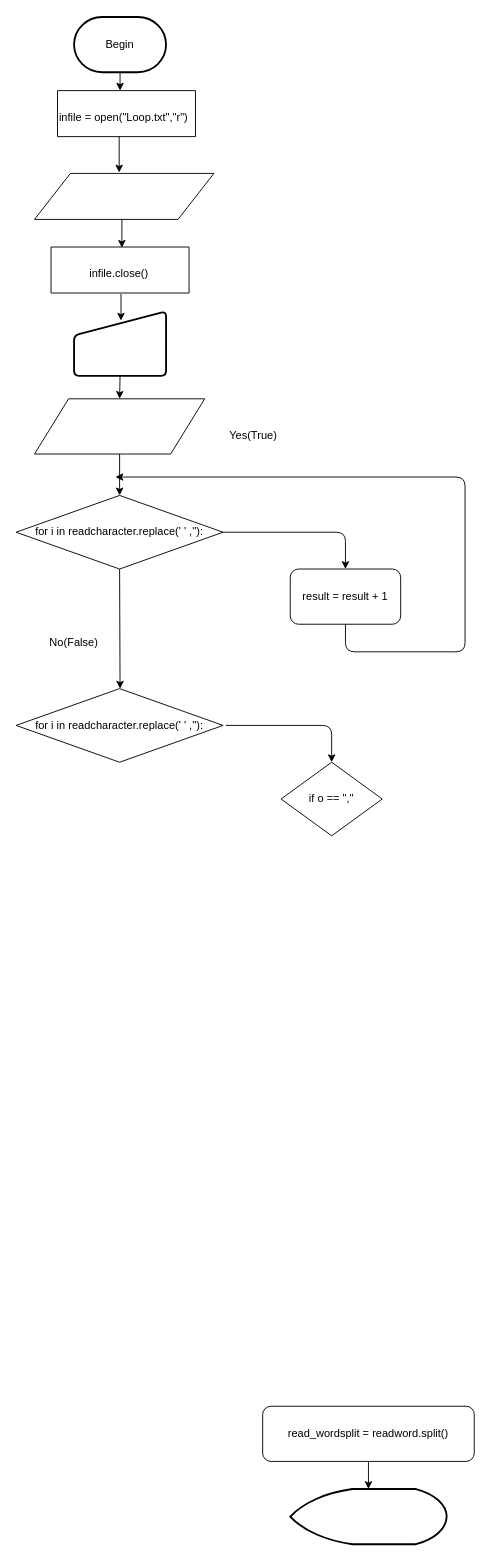
This 490x1560 diagram has some shape labels left out. The centre of each missing label's shape, as x and y in pixels:
"Display Table Headings" belongs at (x=119, y=426).
"print(len(read_wordsplit))" belongs at (x=368, y=1516).
"readcharacter = infile.read()" belongs at (x=124, y=195).
"result1 = 0 result = 0" belongs at (x=120, y=343).
